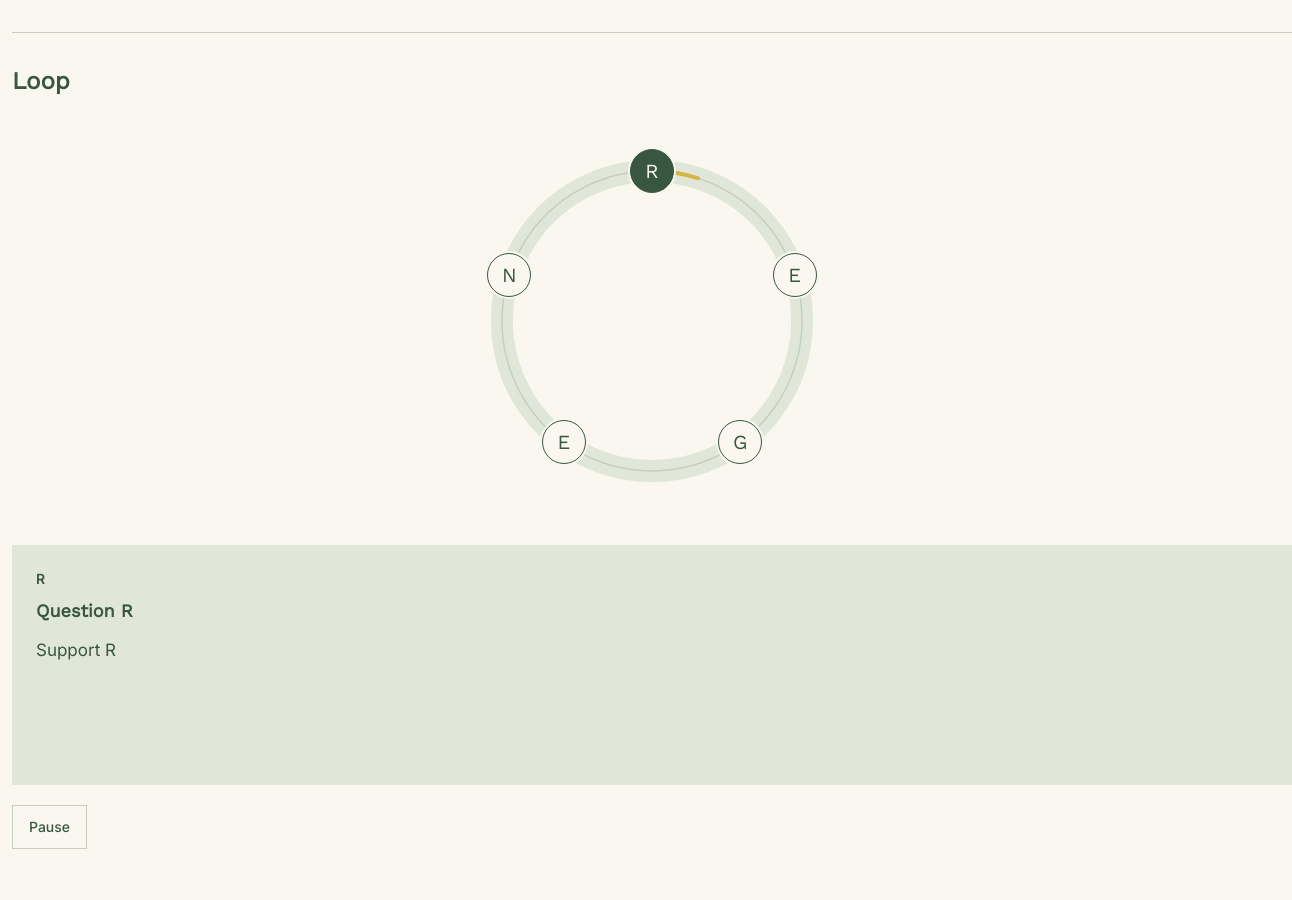
Test: REGEN conversation rules › allows direct selection of any movement without traversing earlier movements
The image size is (1292, 900).
Click the button "N": x=509, y=275 [485,251,533,299]
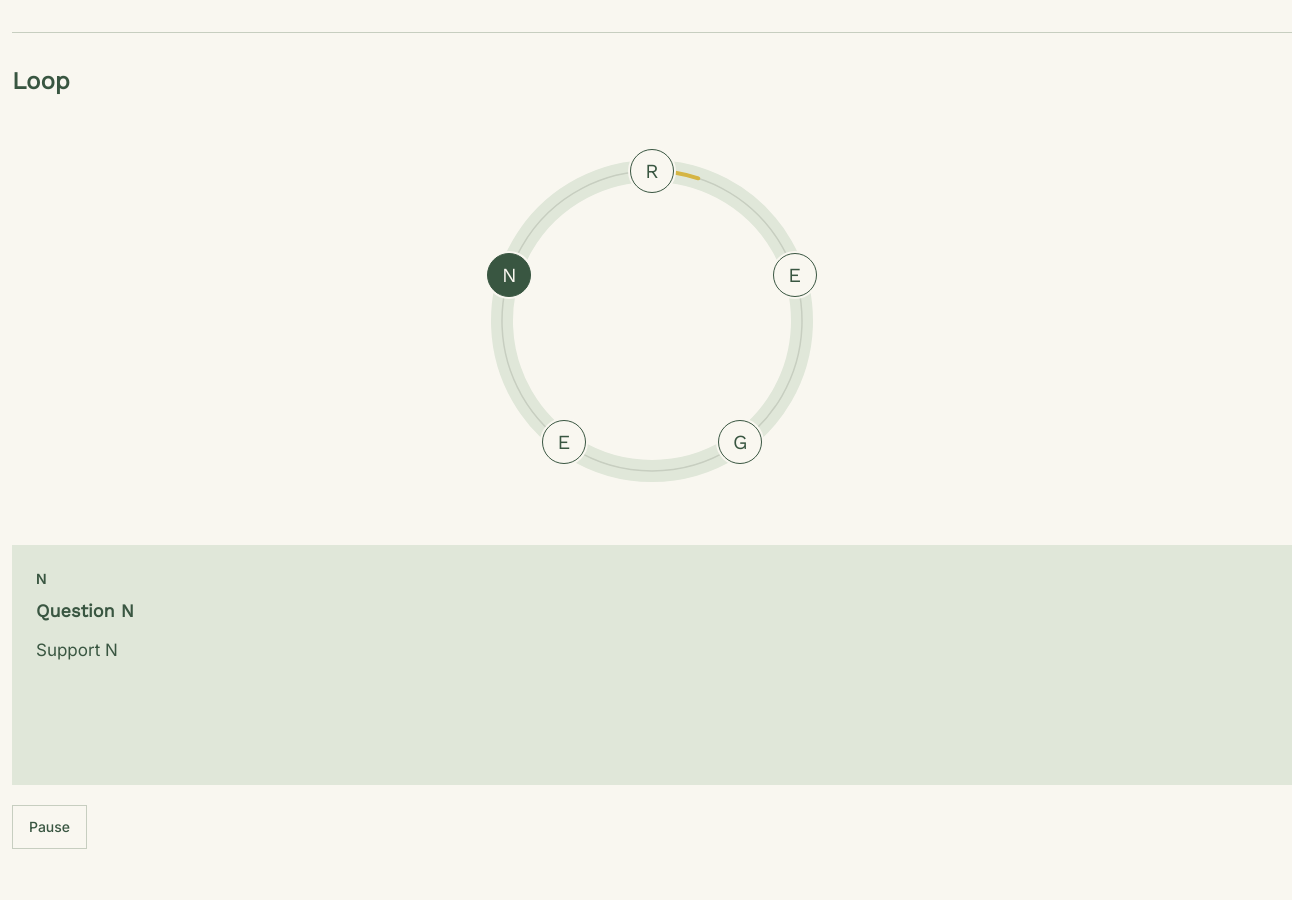
expect the element "N" reads "N Question N Support N": met, box [12,545,1291,785]
Click the button "G": x=740, y=442 [716,418,764,466]
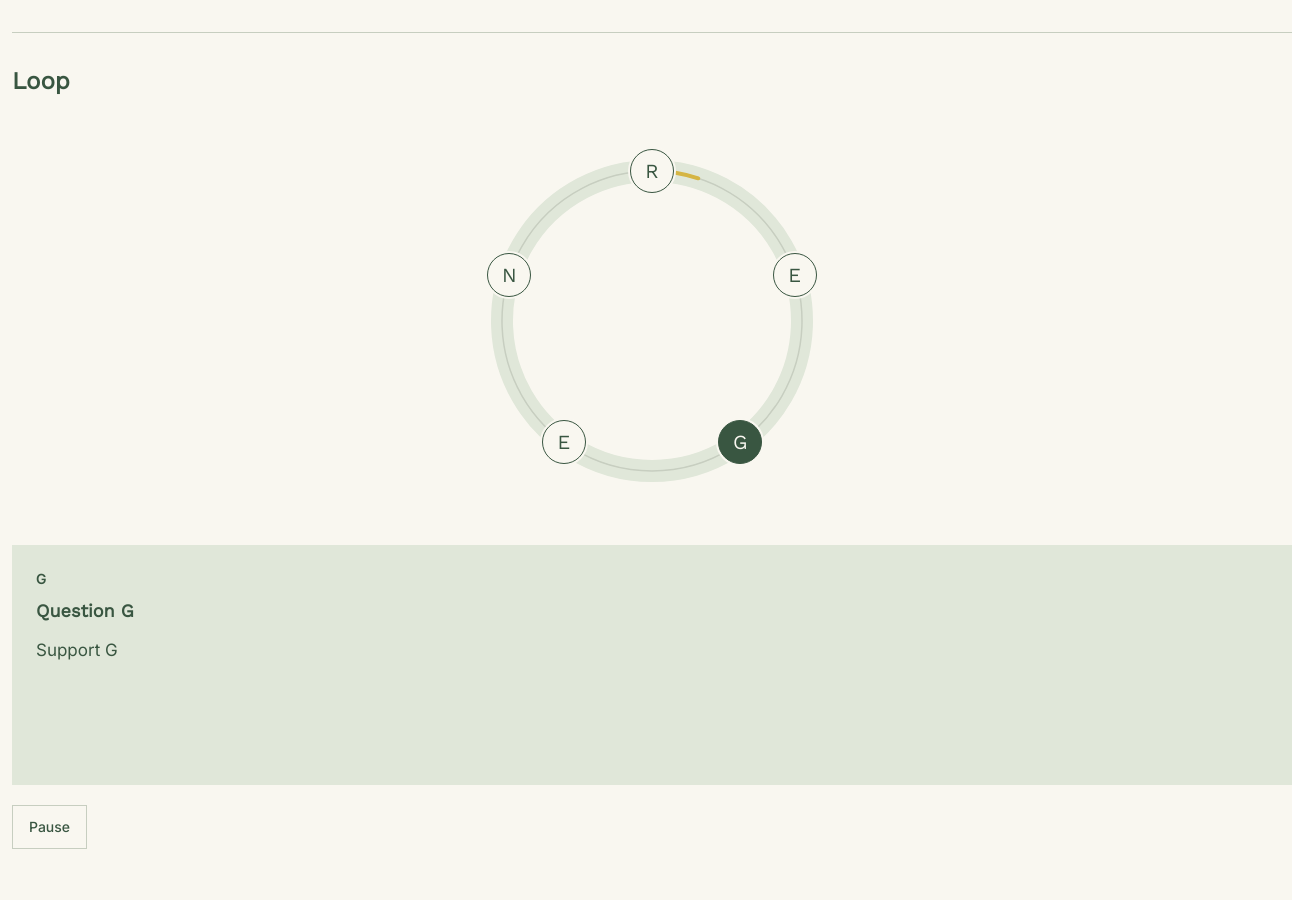
expect the element "G" reads "G Question G Support G": met, box [12,545,1291,785]
